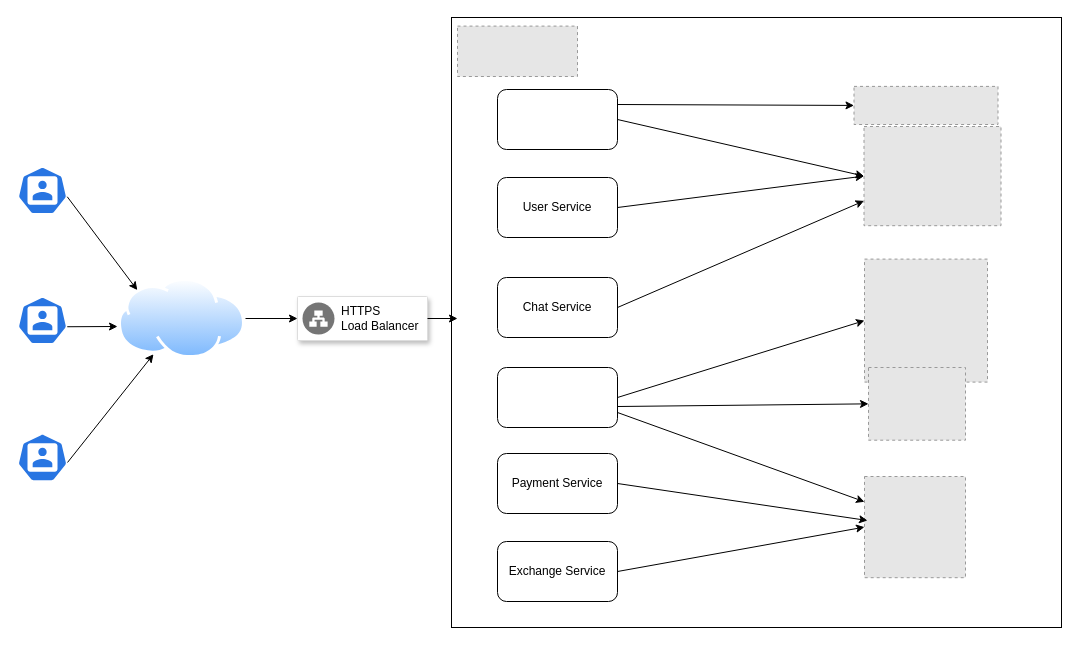
This 1079x645 diagram has some shape labels left out. Grey dashed boxes stand in for pictures. Each missing label, with the centre of its shape:
"Auth Service" goes at point 557,119.
"Goods Service" goes at point 557,397.
